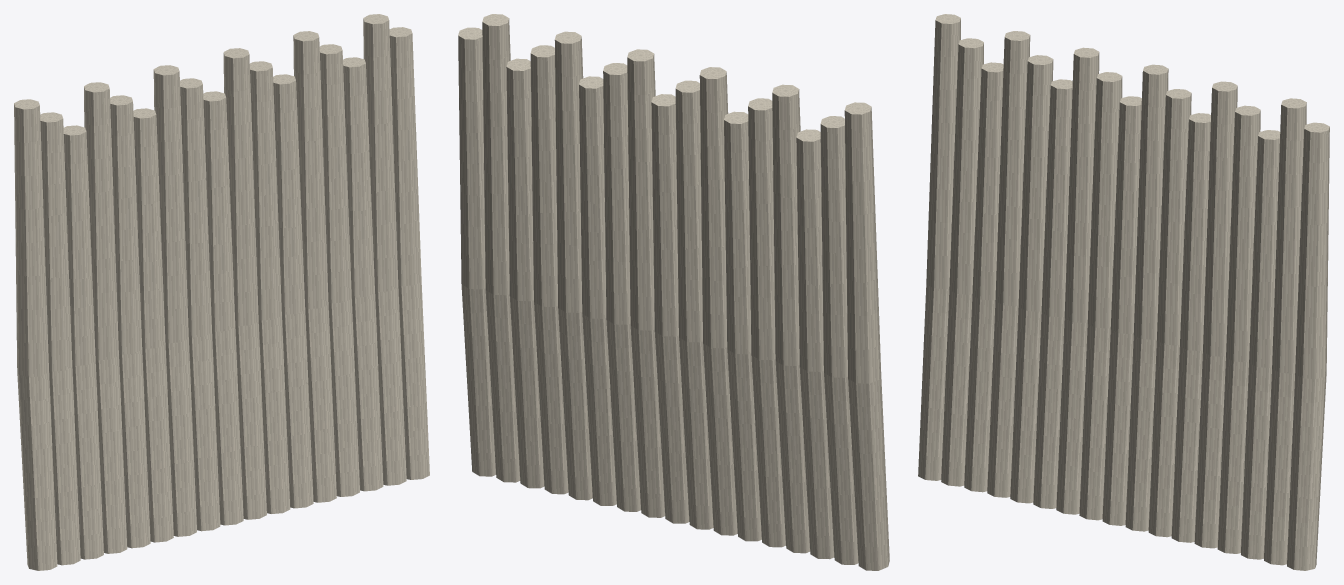
Rendered from cave-and-crystal-networks-flowstone-sheet-21b96c50.glb.
3 renders of one model, left to right at view 1: azimuth 30°, elevation 25°; view 2: azimuth 150°, elevation 25°; view 3: azimuth 330°, elevation 25°, orthographic. The views are drawn at different scales.
Parts seen in each view (by area): view 1: flowstone-sheet; view 2: flowstone-sheet; view 3: flowstone-sheet.
Boxes of the visible parts, <box> form: flowstone-sheet: <box>14,14,429,570</box>; flowstone-sheet: <box>458,14,889,570</box>; flowstone-sheet: <box>918,14,1329,570</box>.
Size of the model in its own units: 2.24 by 2.41 by 0.2897.
1 material, 1 textured.
